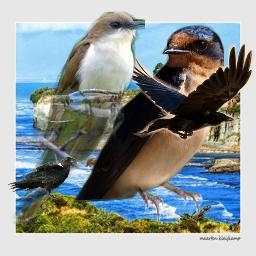Crow: (116, 43, 255, 140), (7, 156, 79, 200)
Cuckoo: (12, 9, 145, 224)
Swallow: (72, 24, 224, 221)
